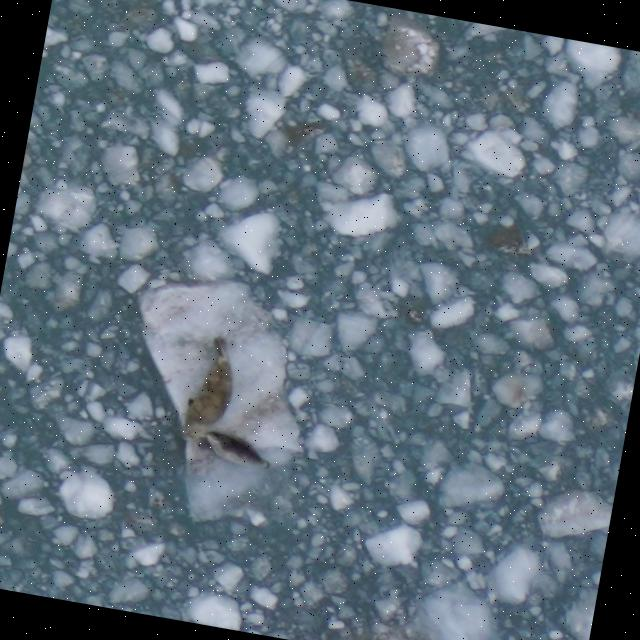seal: (174, 327, 245, 446), (194, 424, 282, 478)
